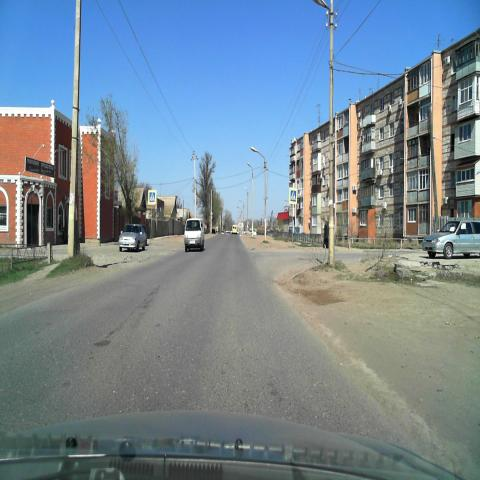5_19_1: (147, 188, 156, 206), (289, 188, 297, 205)
